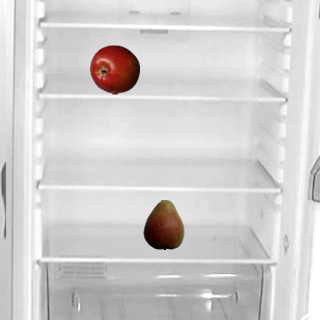Apple Braeburn: (89, 44, 139, 94)
Pear Forelle: (138, 199, 188, 249)
